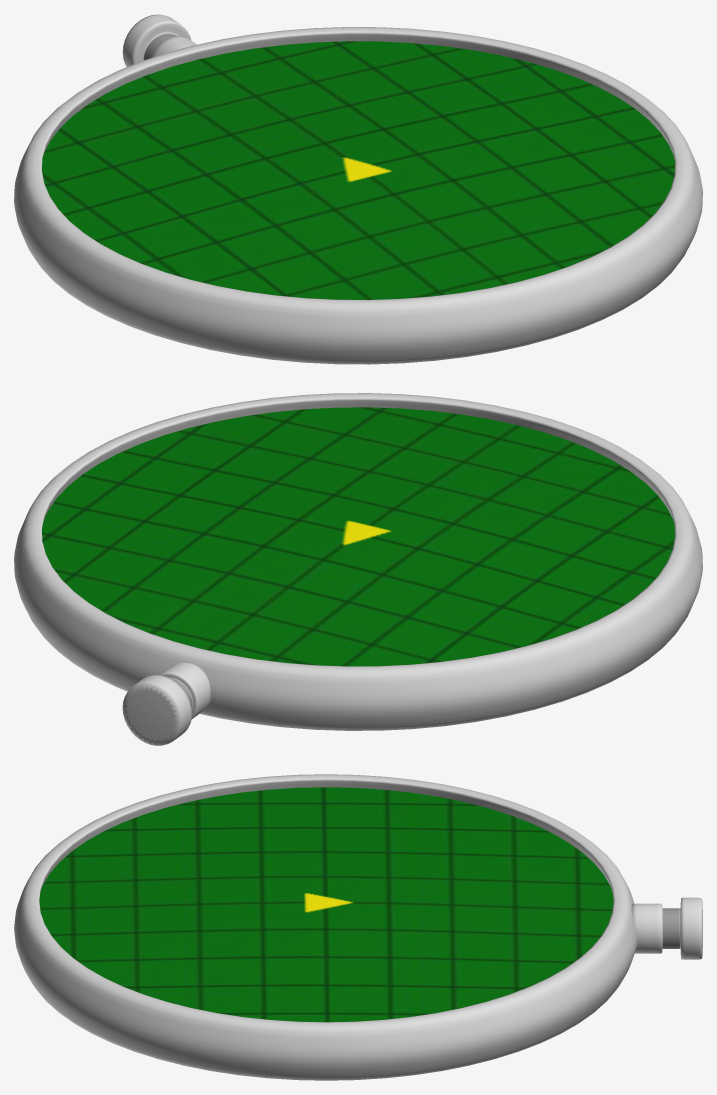
The model's file is Radar.fbx.
The picture shows the model from 3 angles, top to bottom: view 1: azimuth 30°, elevation 25°; view 2: azimuth 150°, elevation 25°; view 3: azimuth 270°, elevation 25°; orthographic projection. The views are drawn at different scales.
Visible parts, largest first — view 1: Radar; view 2: Radar; view 3: Radar.
Part boxes in pixels (x1,y1,x2,y2): Radar: [14, 14, 702, 364]; Radar: [14, 393, 702, 745]; Radar: [14, 774, 702, 1080].
Bounding box in the file's own units: 24.45 × 2.49 × 26.96.
